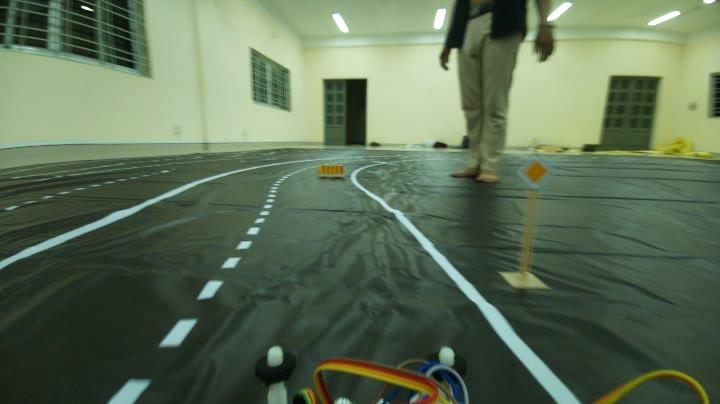priority: (516, 148, 556, 197)
roadblock: (314, 162, 352, 184)
